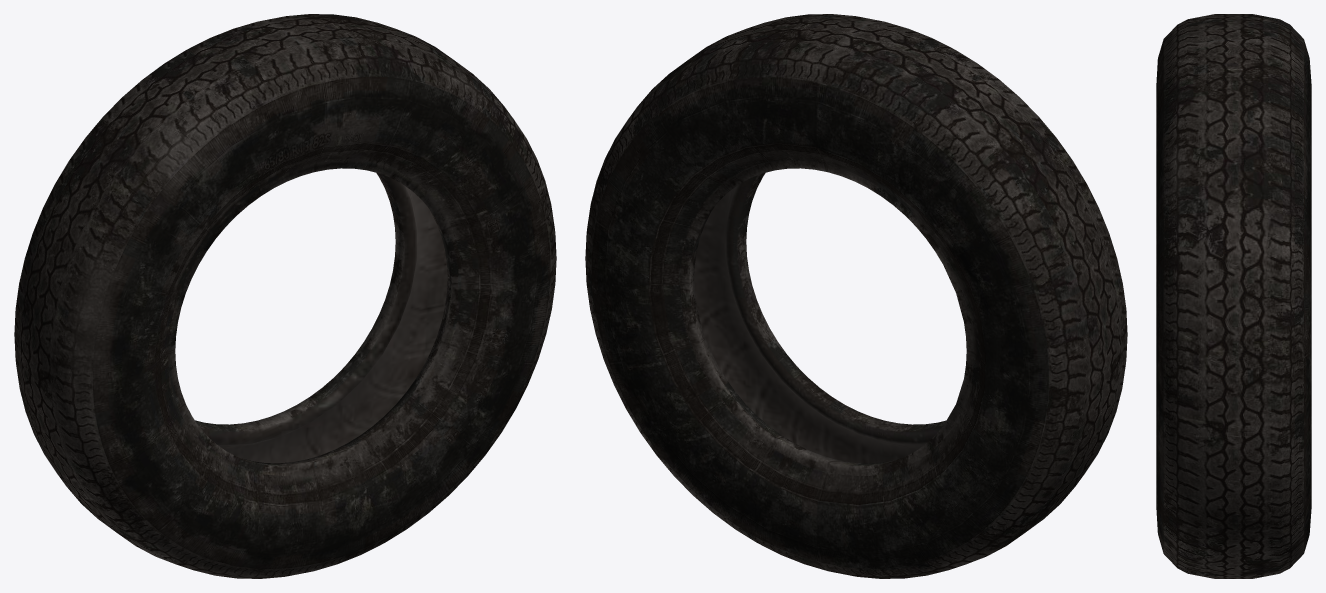
The model's file is tyre.glb.
3 views of the same model, side by side, from view 1: azimuth 30°, elevation 25°; view 2: azimuth 150°, elevation 25°; view 3: azimuth 270°, elevation 25° (orthographic). The views are drawn at different scales.
Visible parts, largest first — view 1: tyre; view 2: tyre; view 3: tyre.
Boxes of the visible parts, x1=… form: tyre: x1=14, y1=14, x2=556, y2=578; tyre: x1=585, y1=14, x2=1127, y2=578; tyre: x1=1156, y1=14, x2=1311, y2=578.
Bounding box in the file's own units: 0.6 × 0.6 × 0.165.
1 material, 1 textured.
